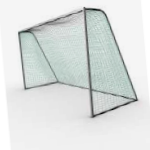goals: (15, 5, 140, 120)
